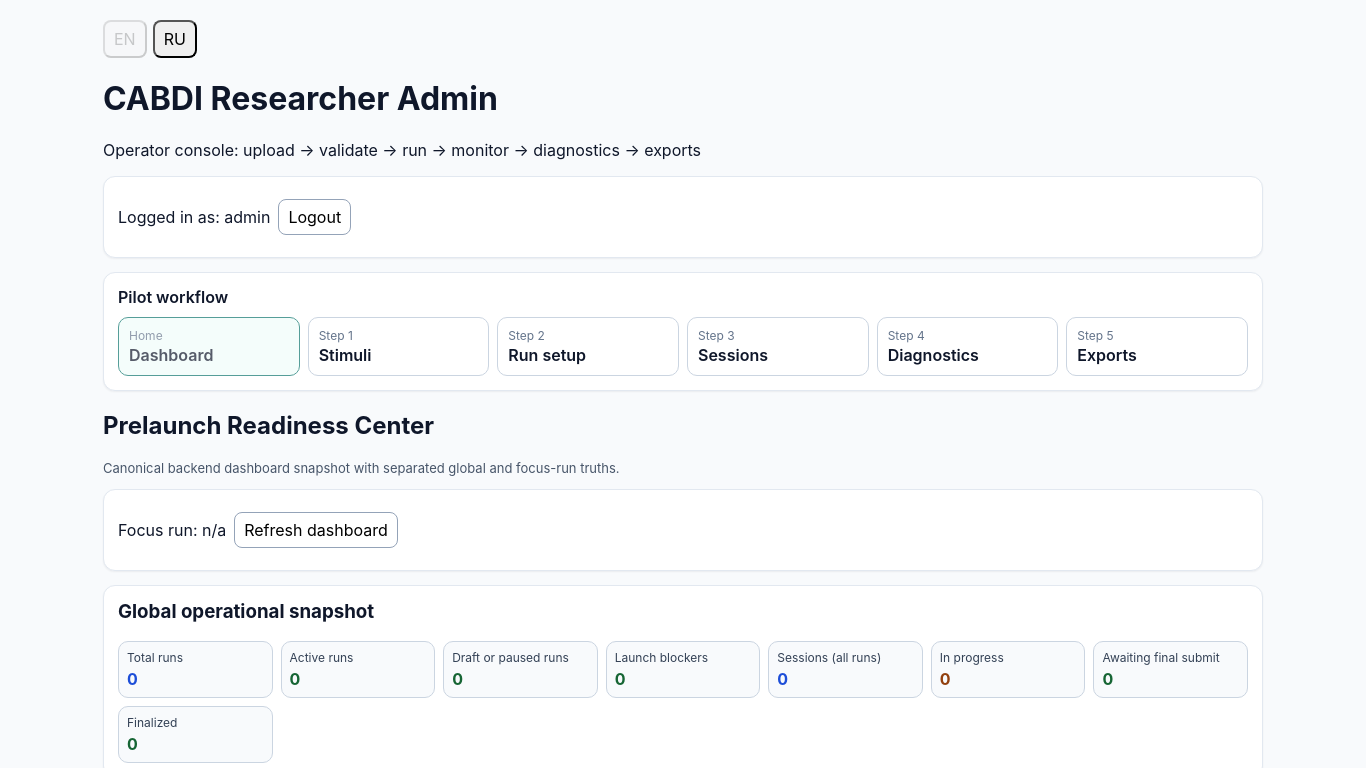
it: researcher auth shell › localizes operator statuses in run/session surfaces
Expected: the text "Logged in as: admin" is shown, [118,207,270,227]
Click the button "RU".
click(175, 39)  # box [153,20,197,58]
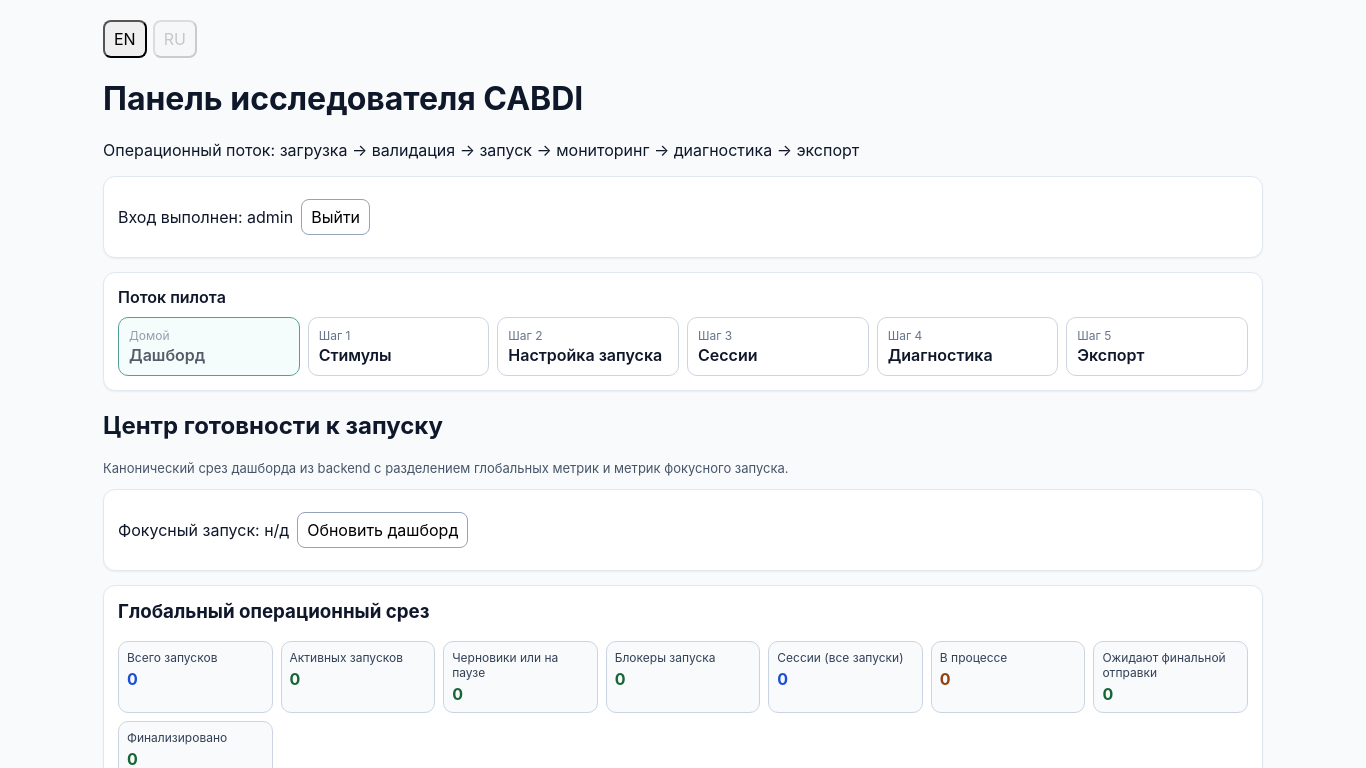
Click the button with aria-label "Шаг 3: Мониторинг сессий".
click(778, 346)  # box [687,317,869,376]
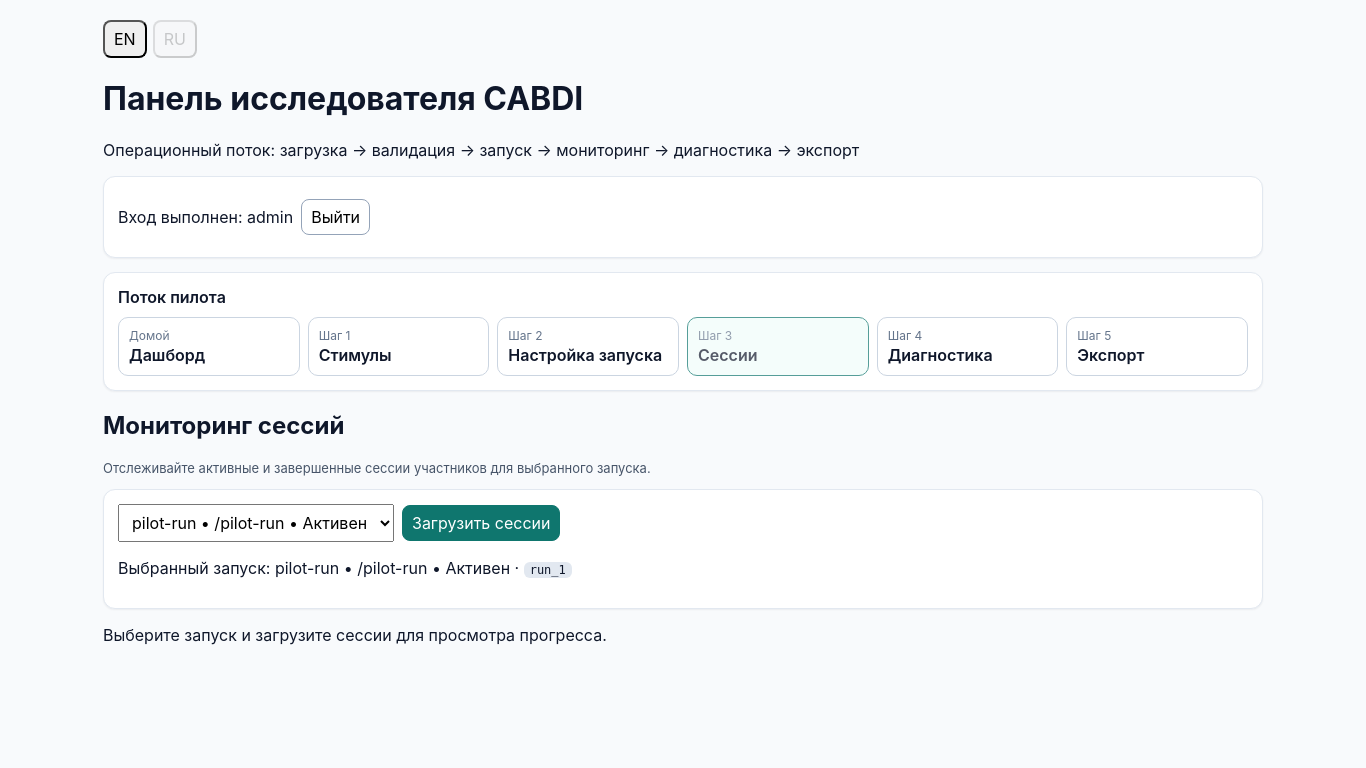
Click the button "Загрузить сессии".
click(481, 523)  # box [402,505,560,541]
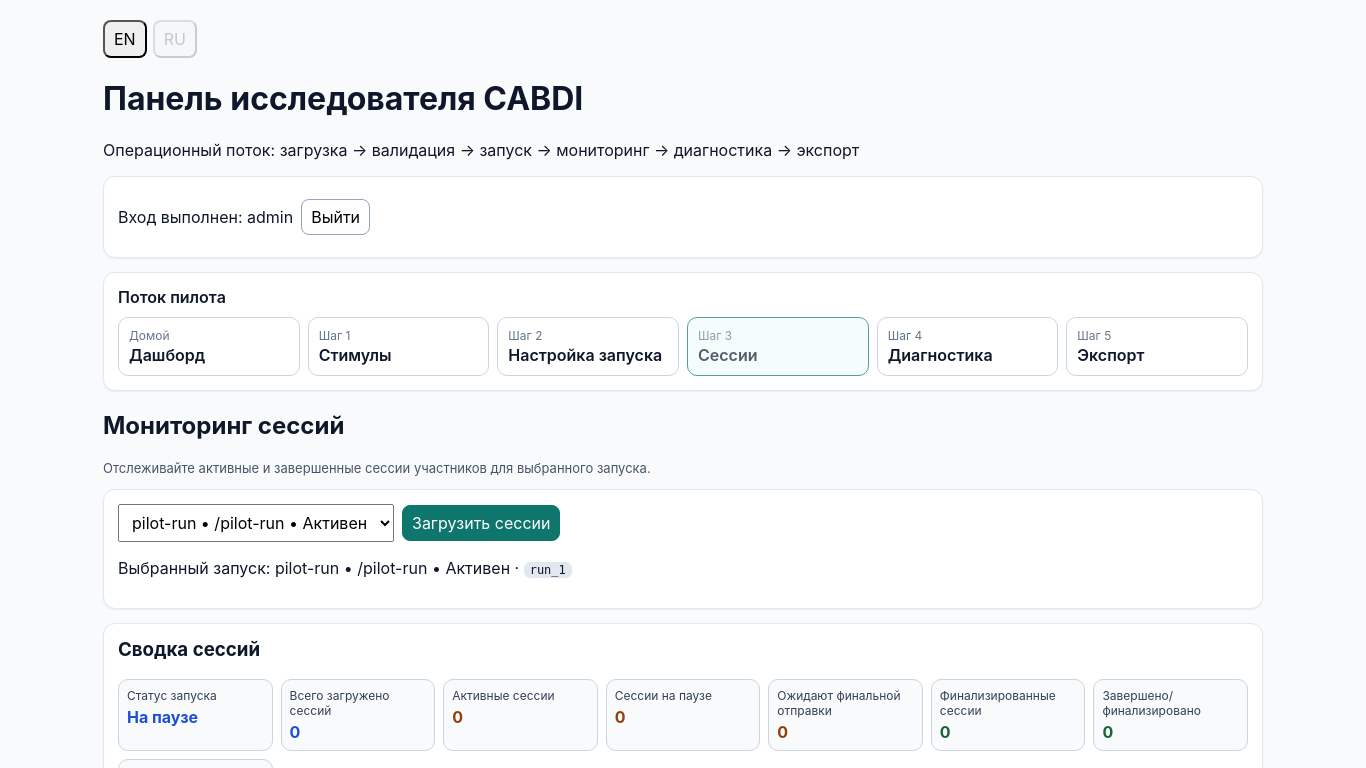
Result: the text "Выбранный запуск: pilot-run • /pilot-run • Активен · run_1" is shown at [118,558,572,578]
Result: the heading "Сводка сессий" is shown at [118,638,260,661]
Result: the text "На паузе" is shown at [127,707,198,727]
